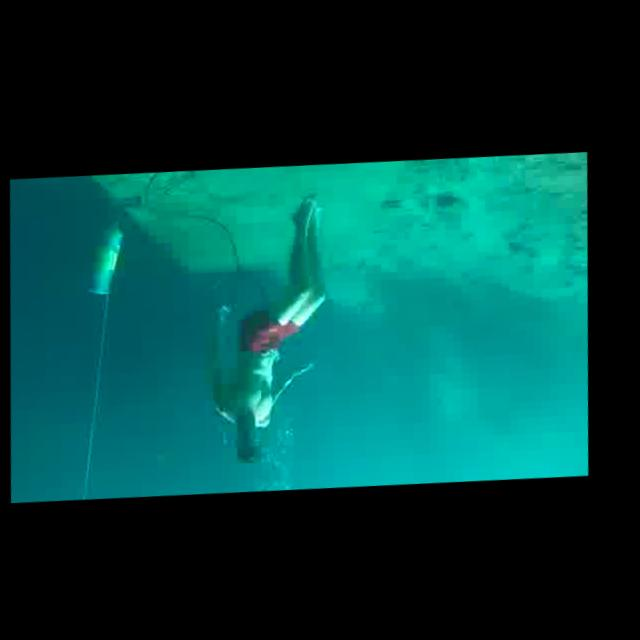human: (194, 183, 352, 473)
